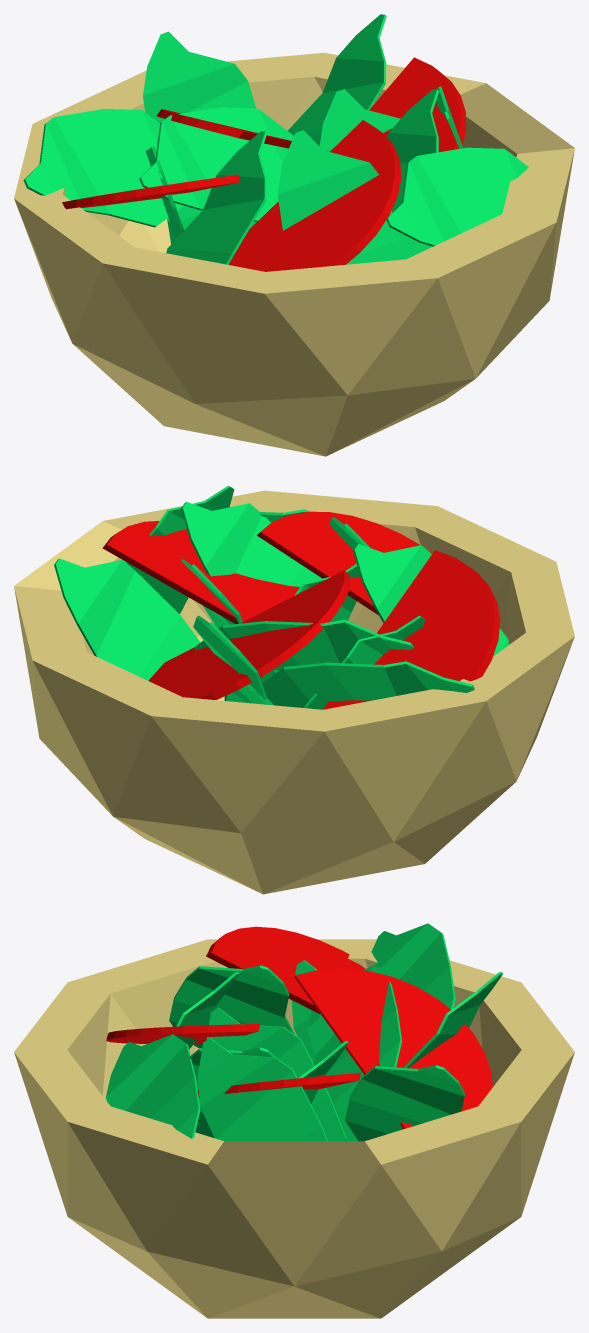
The model's file is saladMix.fbx.
3 renders of one model, top to bottom at view 1: azimuth 30°, elevation 25°; view 2: azimuth 150°, elevation 25°; view 3: azimuth 270°, elevation 25°, orthographic. The views are drawn at different scales.
Parts seen in each view (by area): view 1: 아이코스피어, 원형.004, 평면.011, 평면.001, 평면.010, 평면.005, 평면.003, 평면.002, 평면.009, 원형.002, 평면.004, 평면.008 (+3 smaller); view 2: 아이코스피어, 원형.001, 평면.009, 원형.003, 원형.002, 평면.008, 평면.011, 원형.004, 평면.002, 평면.010, 평면.003, 평면 (+4 smaller); view 3: 아이코스피어, 원형.003, 평면, 평면.001, 평면.009, 원형.001, 평면.002, 평면.011, 평면.010, 평면.006, 원형.004, 평면.003 (+5 smaller).
Part boxes in pixels (x1,y1,x2,y2): 아이코스피어: [14, 52, 574, 456]; 원형.004: [228, 120, 401, 271]; 평면.011: [23, 109, 183, 227]; 평면.001: [386, 147, 528, 246]; 평면.010: [139, 107, 293, 222]; 평면.005: [277, 130, 403, 264]; 평면.003: [143, 31, 256, 229]; 평면.002: [166, 131, 267, 264]; 평면.009: [288, 14, 386, 145]; 원형.002: [369, 57, 465, 152]; 평면.004: [319, 89, 432, 259]; 평면.008: [387, 89, 438, 212]; 아이코스피어: [14, 490, 574, 894]; 원형.001: [323, 550, 500, 709]; 평면.009: [54, 558, 200, 680]; 원형.003: [148, 570, 350, 699]; 원형.002: [102, 521, 299, 623]; 평면.008: [181, 502, 321, 586]; 평면.011: [255, 661, 474, 707]; 원형.004: [257, 511, 432, 615]; 평면.002: [353, 544, 508, 656]; 평면.010: [194, 619, 413, 670]; 평면.003: [193, 615, 273, 705]; 평면: [125, 485, 234, 613]; 아이코스피어: [14, 939, 574, 1318]; 원형.003: [294, 968, 492, 1129]; 평면: [197, 1038, 327, 1141]; 평면.001: [106, 1034, 200, 1138]; 평면.009: [345, 1065, 464, 1141]; 원형.001: [206, 926, 365, 1013]; 평면.002: [169, 965, 295, 1048]; 평면.011: [370, 923, 455, 1009]; 평면.010: [307, 965, 402, 1114]; 평면.006: [206, 1007, 346, 1141]; 원형.004: [106, 1024, 260, 1044]; 평면.003: [403, 972, 503, 1068].
Size of the model in its own units: 190 by 112 by 200.
